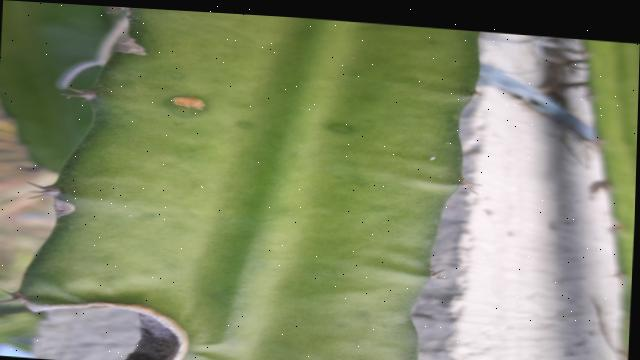stemcanker: (165, 92, 214, 115)
